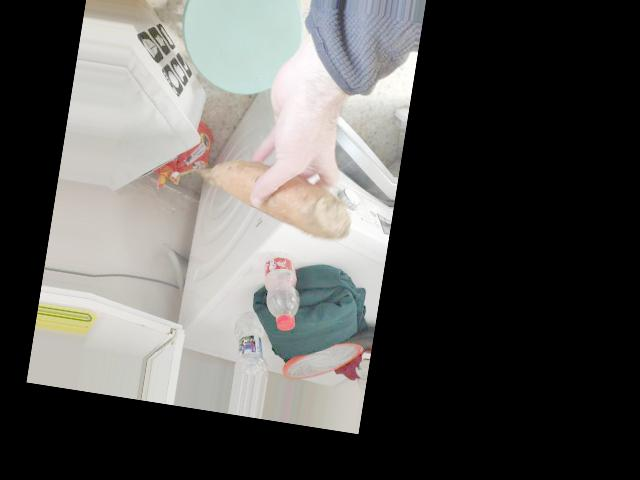sweet_potato: (189, 163, 354, 233)
